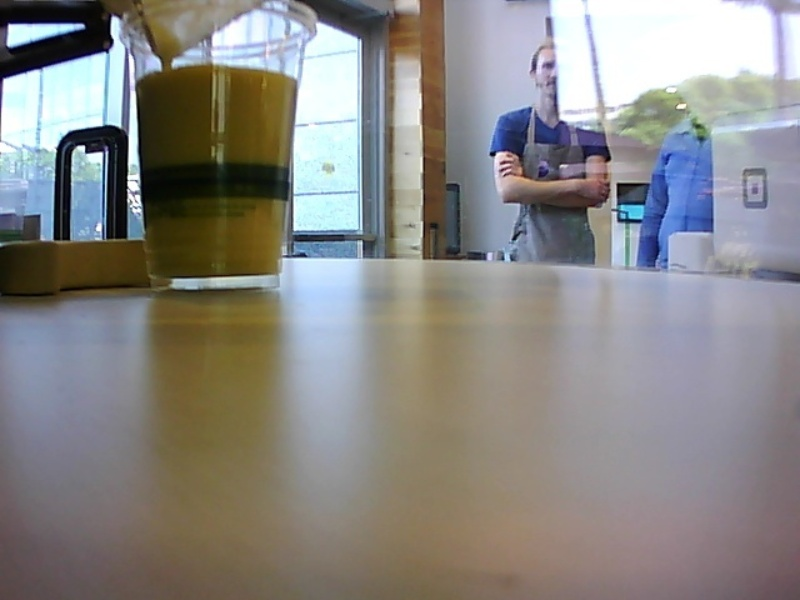cup: (114, 1, 323, 295)
limit: (134, 55, 304, 90)
